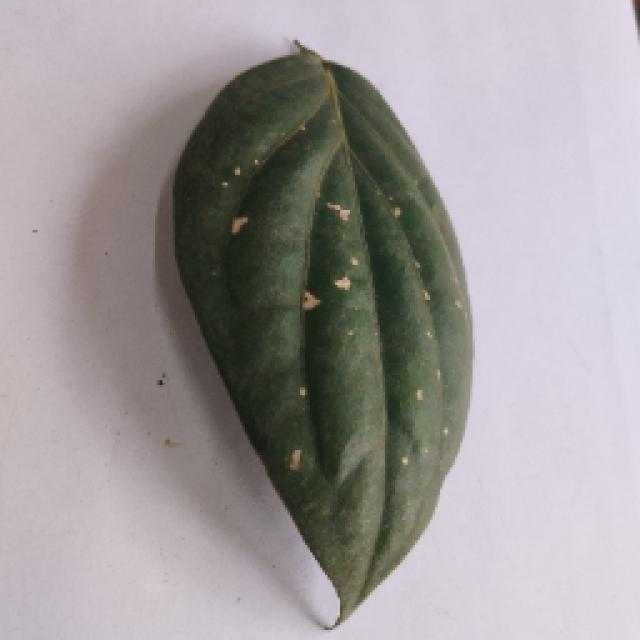pollu-disease: (167, 45, 475, 627)
